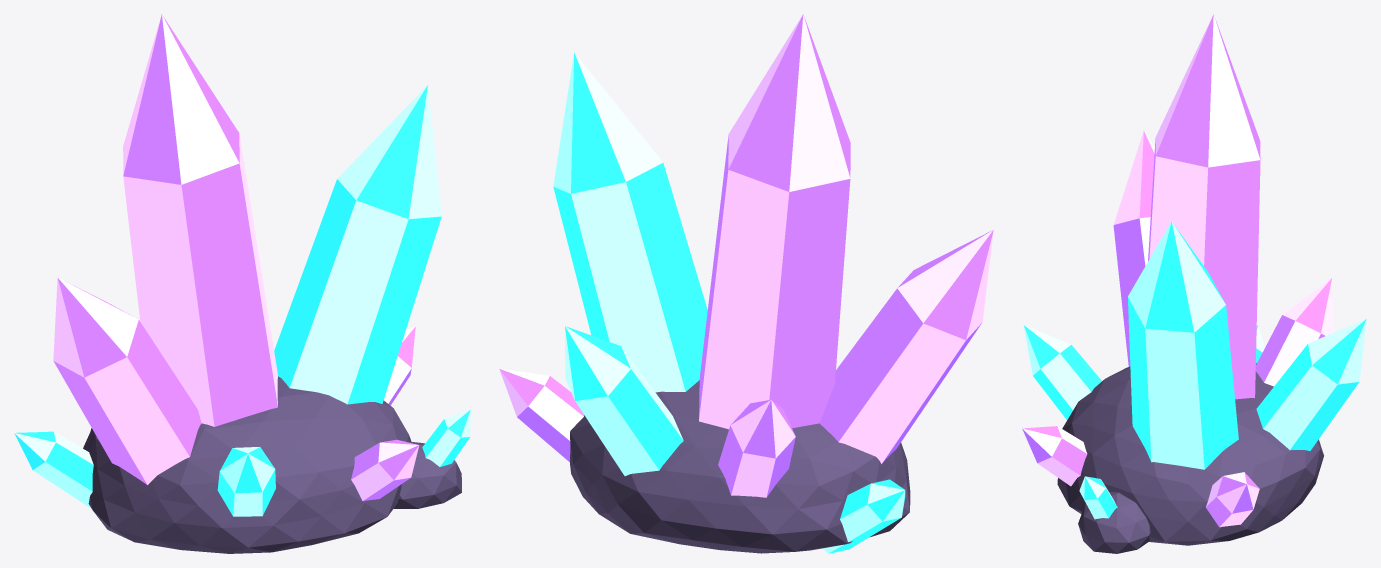
The model's file is crystal_big.glb.
3 views of the same model, side by side, from view 1: azimuth 30°, elevation 25°; view 2: azimuth 150°, elevation 25°; view 3: azimuth 270°, elevation 25° (orthographic). The views are drawn at different scales.
Parts seen in each view (by area): view 1: crystal_big; view 2: crystal_big; view 3: crystal_big.
Part boxes in pixels (box(x1,y1,x2,y2)): crystal_big: box(14, 14, 470, 553); crystal_big: box(499, 14, 993, 553); crystal_big: box(1022, 14, 1366, 553).
Size of the model in its own units: 5.43 by 6.24 by 4.36.
